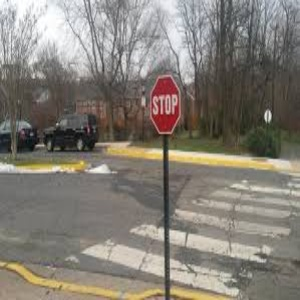stop: (149, 75, 181, 135)
